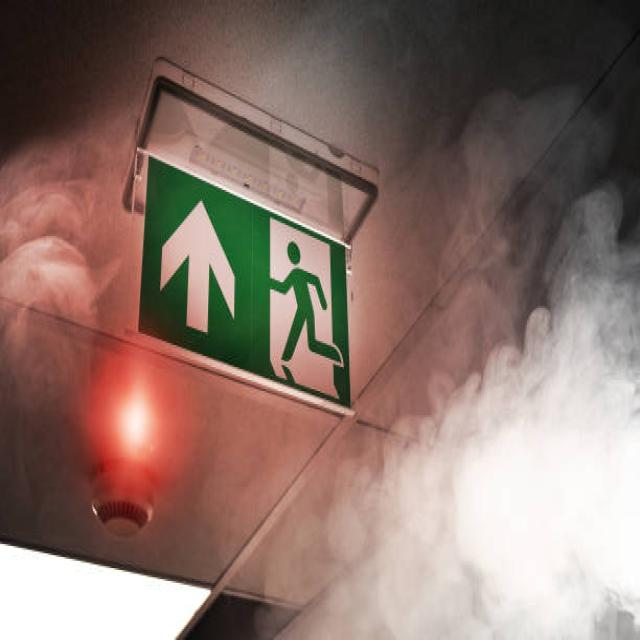smoke: (389, 89, 635, 634), (251, 426, 385, 635), (4, 143, 110, 398)
